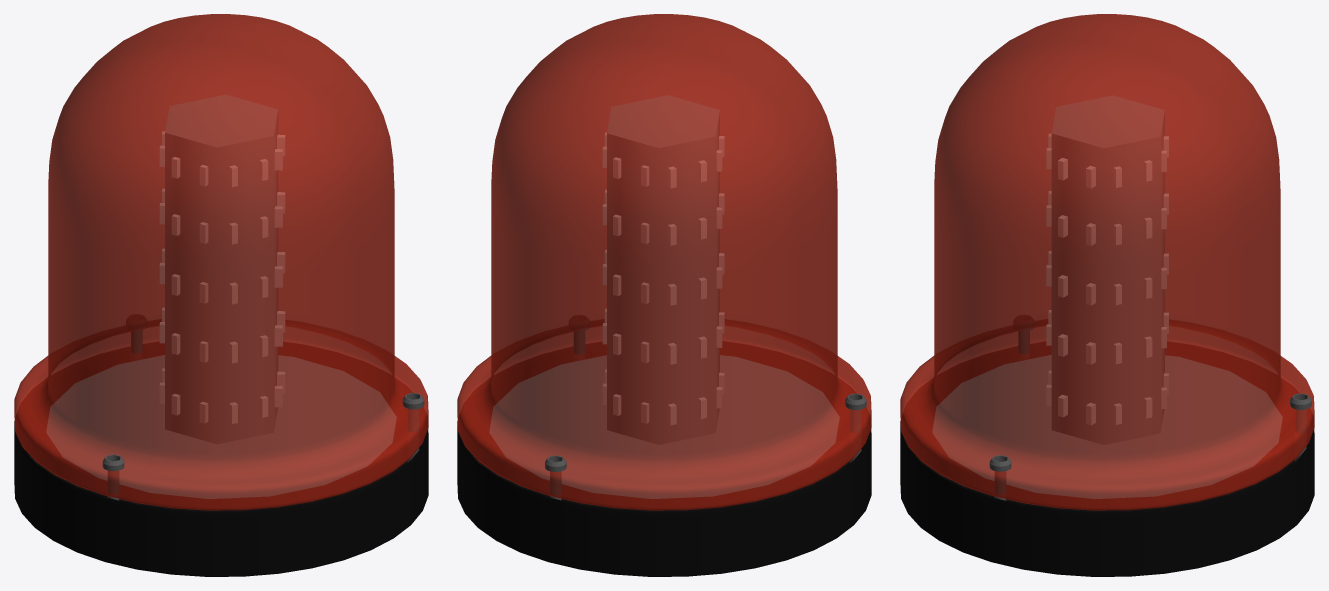
File: Red fbx.FBX
3 renders of one model, left to right at view 1: azimuth 30°, elevation 25°; view 2: azimuth 150°, elevation 25°; view 3: azimuth 270°, elevation 25°, orthographic.
Visible parts, largest first — view 1: Cylinder001; view 2: Cylinder001; view 3: Cylinder001.
Part boxes in pixels (x1,y1,x2,y2): Cylinder001: [14, 14, 428, 576]; Cylinder001: [457, 14, 871, 576]; Cylinder001: [900, 14, 1314, 576].
Bounding box in the file's own units: 16.44 × 20.13 × 16.44.
